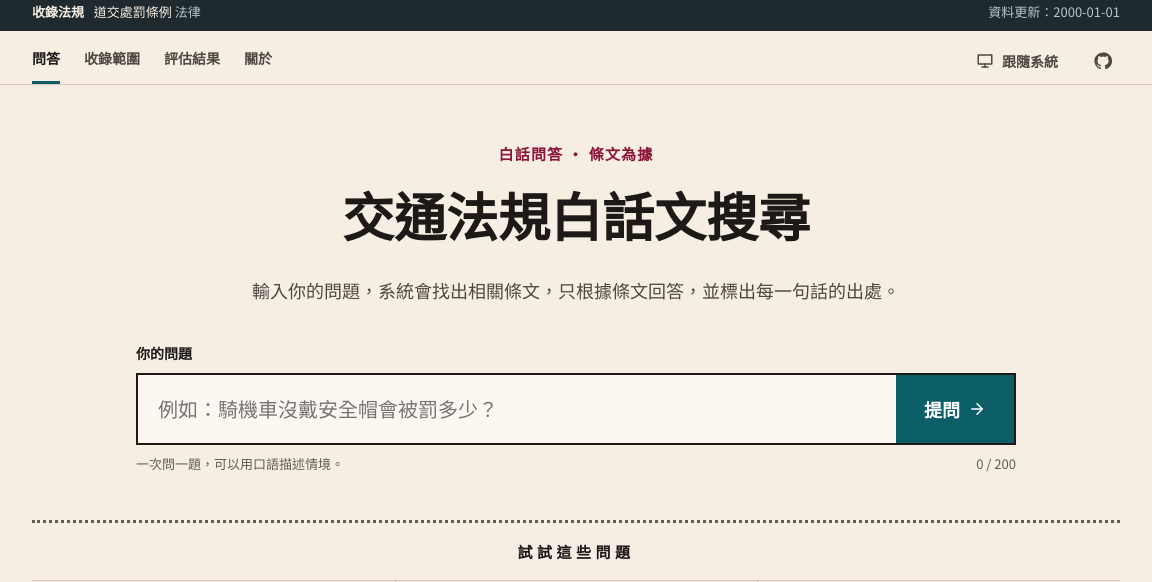
Test: citations, evidence and the full-text panel (desktop) › makes the first citation active when the answer completes, with the panel closed
The image size is (1152, 582).
In the text box labelled "你的問題": [517, 409] box left=138, top=375, right=896, bottom=443, type "紅燈右轉會被罰多少錢？"
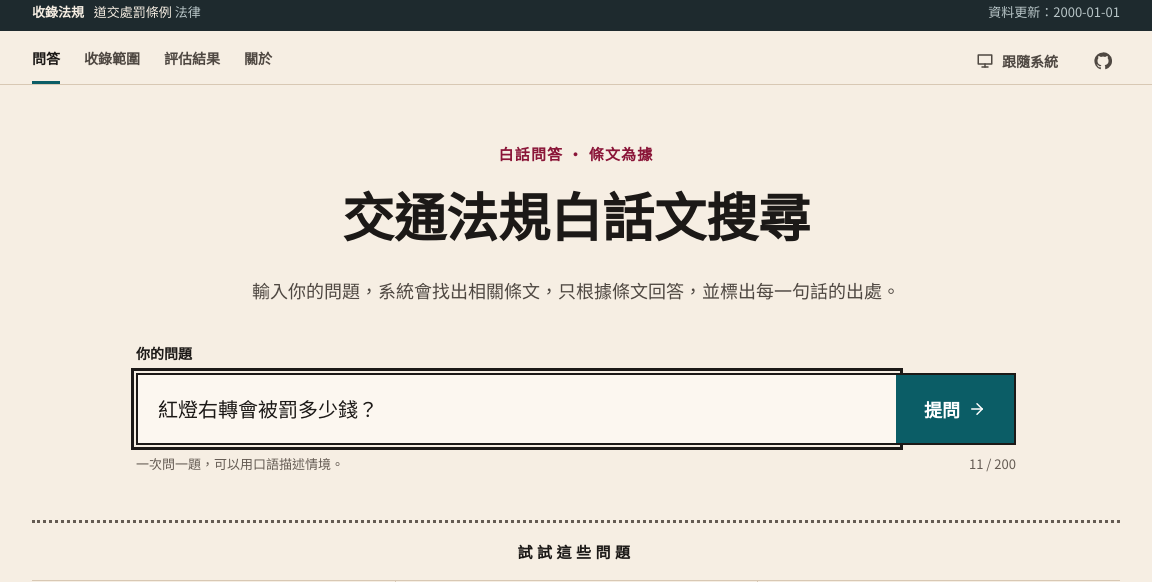
Click the button "提問": [955, 409] box left=896, top=375, right=1014, bottom=443
(page scrolled)
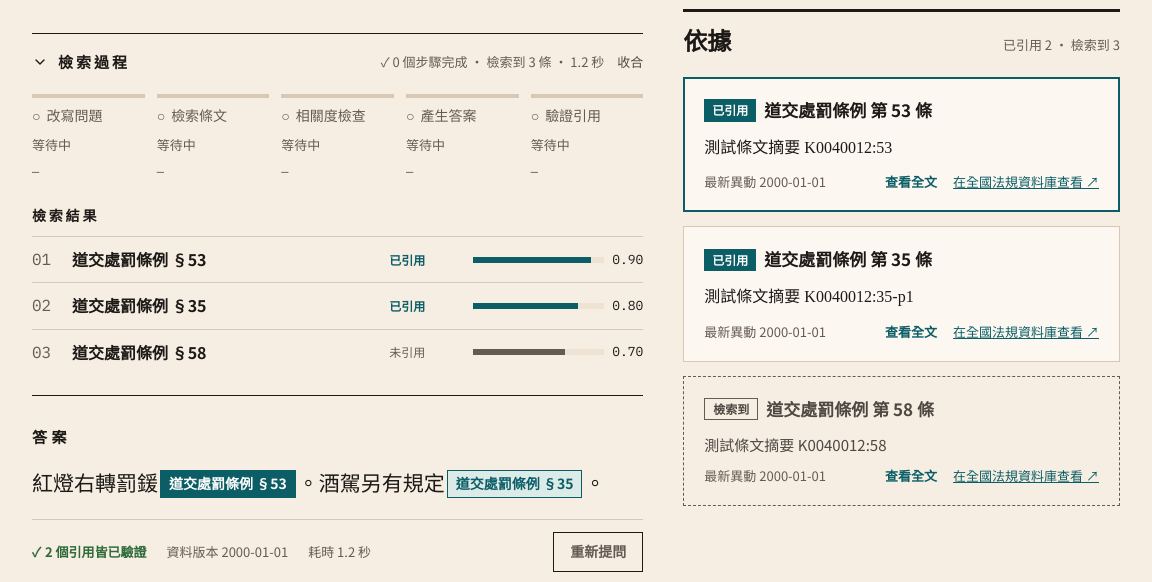
expect the button "重新提問" is shown: met, box left=553, top=532, right=643, bottom=572
expect the button "道交處罰條例 §53" is shown: met, box left=160, top=470, right=296, bottom=498
expect the text "2 個引用皆已驗證" is shown: met, box left=32, top=541, right=146, bottom=563
